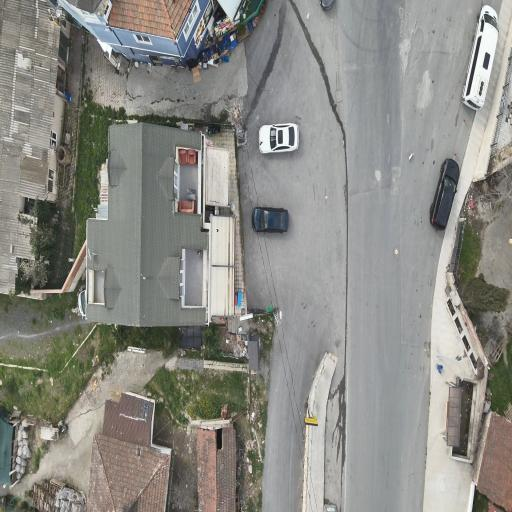car: (462, 5, 498, 110), (430, 158, 460, 230), (259, 124, 298, 153), (252, 207, 288, 233), (78, 289, 86, 318), (321, 0, 334, 9)
